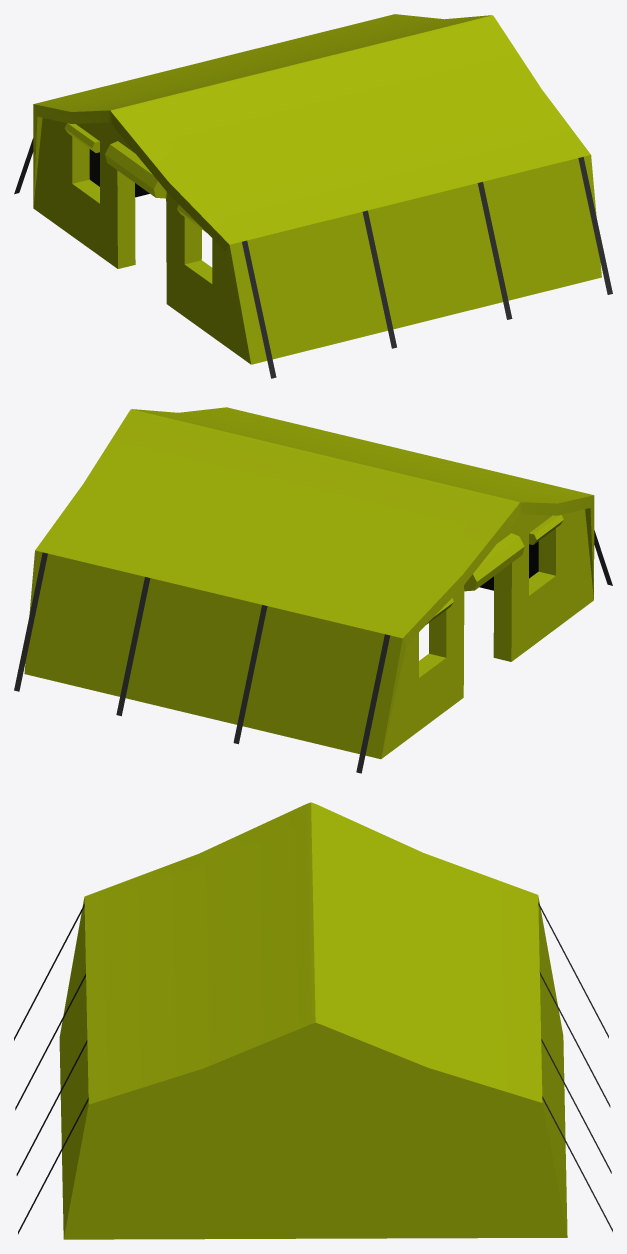
Rendered from police_tent.fbx.
The picture shows the model from 3 angles, top to bottom: view 1: azimuth 30°, elevation 25°; view 2: azimuth 150°, elevation 25°; view 3: azimuth 270°, elevation 25°; orthographic projection. The views are drawn at different scales.
Parts seen in each view (by area): view 1: police_tent; view 2: police_tent; view 3: police_tent.
Boxes of the visible parts, x1=… form: police_tent: x1=14, y1=14, x2=612, y2=378; police_tent: x1=14, y1=407, x2=612, y2=773; police_tent: x1=14, y1=802, x2=612, y2=1239.
Size of the model in its own units: 1164 by 530 by 1332.
